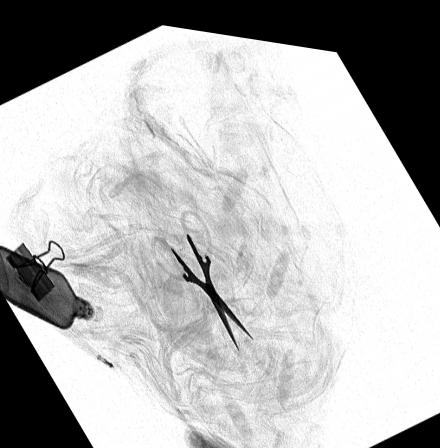Scissors: (146, 200, 257, 346)
